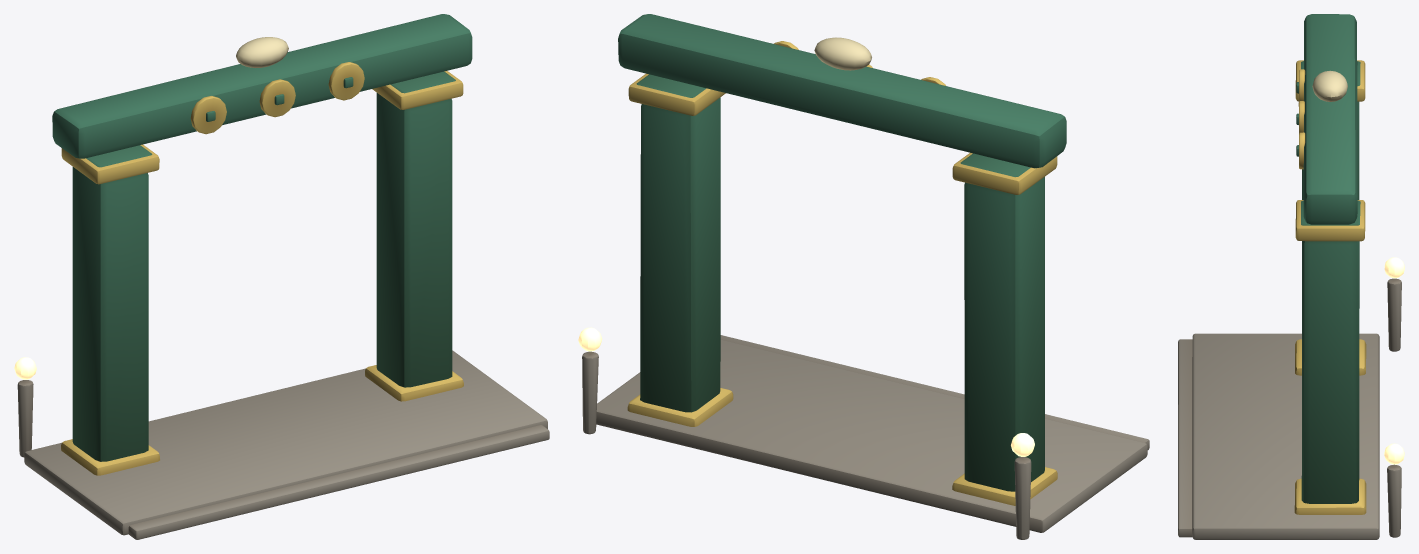
3 renders of one model, left to right at view 1: azimuth 30°, elevation 25°; view 2: azimuth 150°, elevation 25°; view 3: azimuth 270°, elevation 25°, orthographic. The views are drawn at different scales.
Parts seen in each view (by area): view 1: gate_04b122e0; view 2: gate_04b122e0; view 3: gate_04b122e0.
Boxes of the visible parts, x1=… form: gate_04b122e0: x1=14, y1=14, x2=549, y2=539; gate_04b122e0: x1=578, y1=14, x2=1149, y2=539; gate_04b122e0: x1=1178, y1=14, x2=1404, y2=539.
Bounding box in the file's own units: 5.21 × 4.56 × 2.55.
